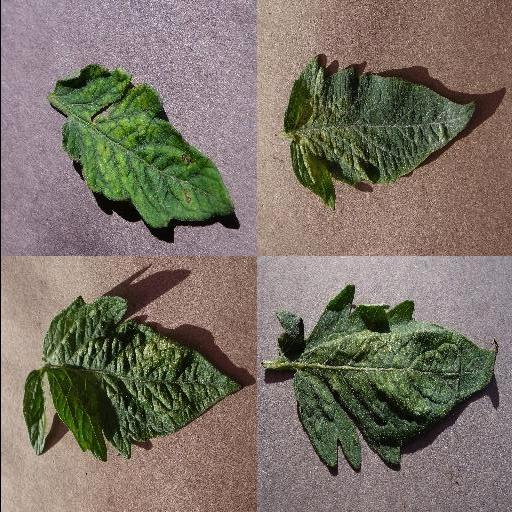Mosaic Virus: (52, 63, 236, 228)
Spider Mites: (294, 285, 498, 471), (44, 295, 244, 461), (283, 55, 475, 210)
